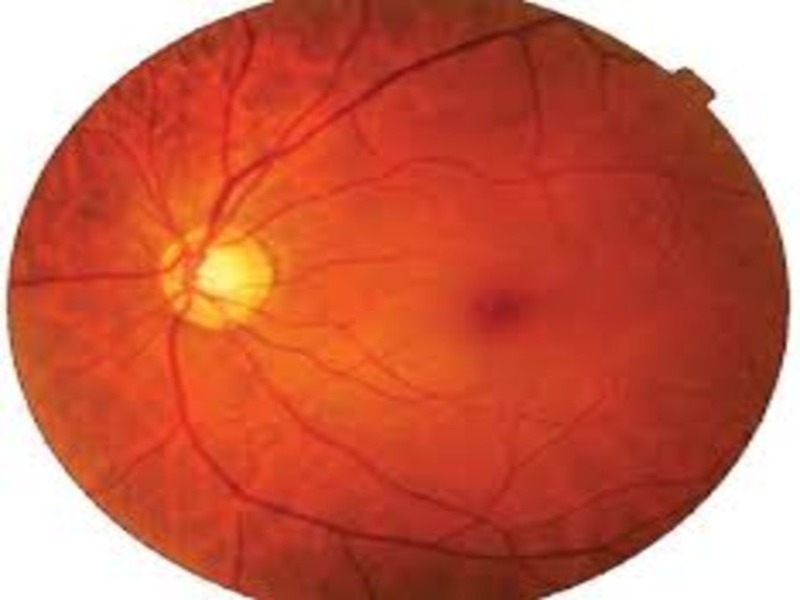Optic Cup: (195, 245, 250, 304)
Optic Disc: (160, 225, 277, 333)
